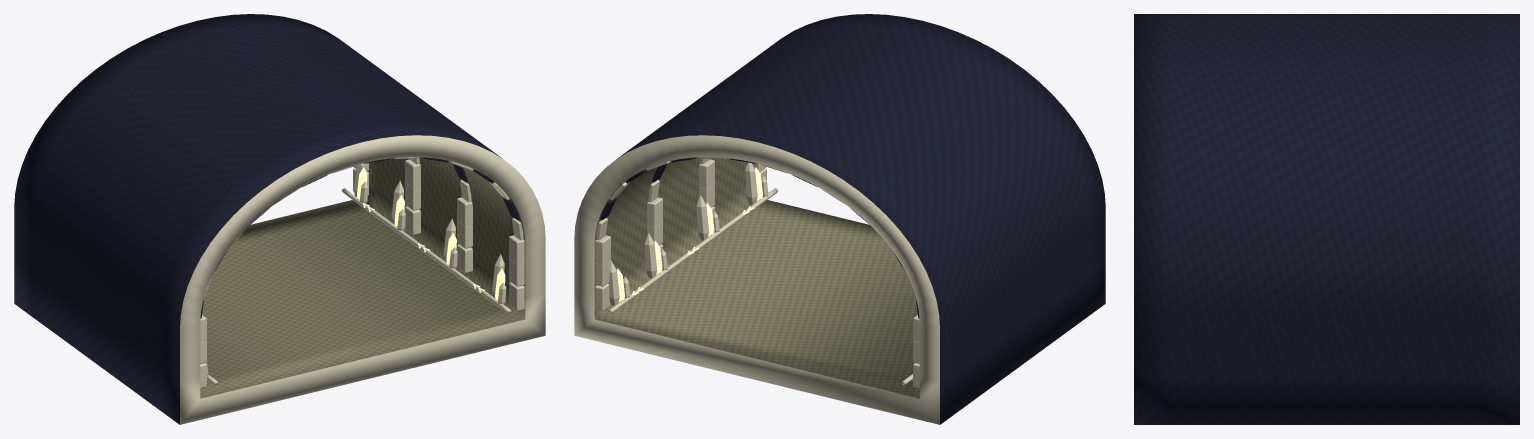
The model's file is straight_12m.glb.
3 views of the same model, side by side, from view 1: azimuth 30°, elevation 25°; view 2: azimuth 150°, elevation 25°; view 3: azimuth 270°, elevation 25° (orthographic). The views are drawn at different scales.
Parts seen in each view (by area): view 1: TunnelGeometry; view 2: TunnelGeometry; view 3: TunnelGeometry.
Boxes of the visible parts, x1,y1,x2,y2 form: TunnelGeometry: [14, 14, 545, 424]; TunnelGeometry: [574, 14, 1105, 424]; TunnelGeometry: [1134, 14, 1519, 424].
Size of the model in its own units: 15.3 by 9.52 by 12.
4 materials, 2 textured.
